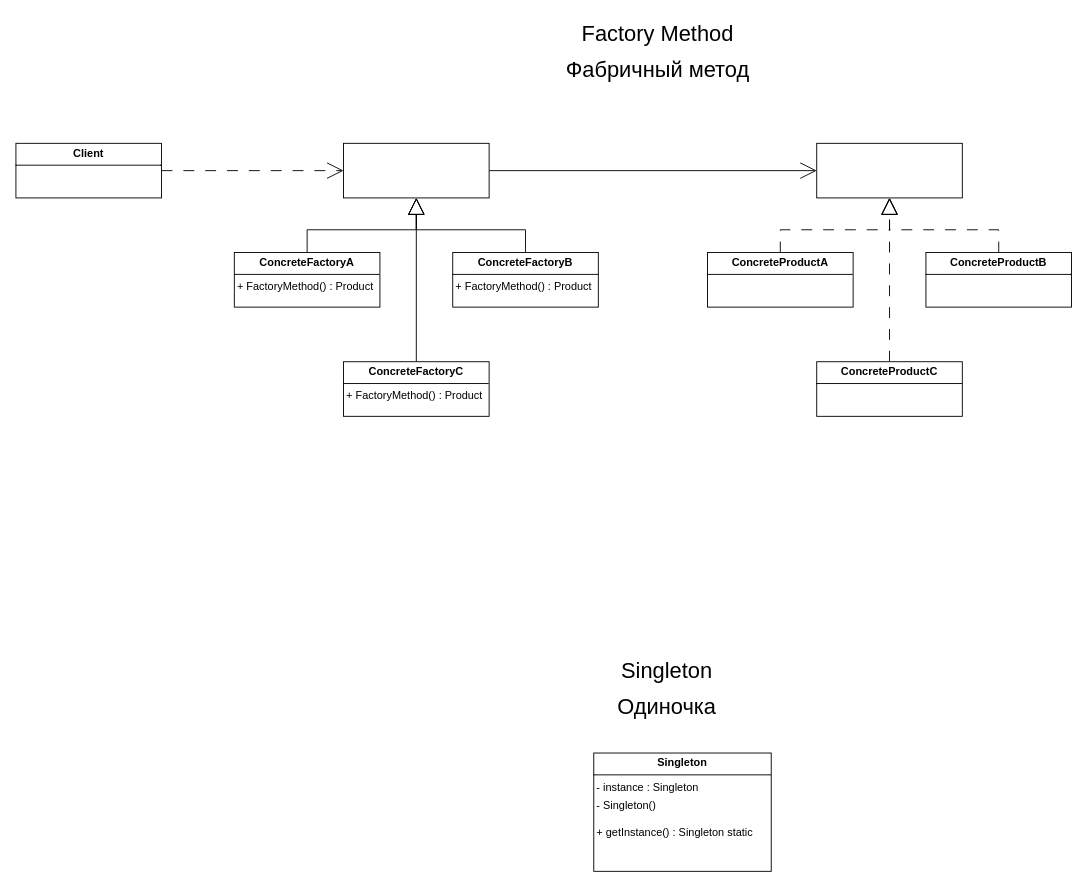
The diagram is 1087 pixels wide and 887 high, and some of its shapes have lost their labels. The shapes that lost their labels are listed below. From the top down, each one's centre as x and y in pixels, then its label:
the point at 416,170: Factory + FactoryMethod() : Product
the point at 889,170: Product
